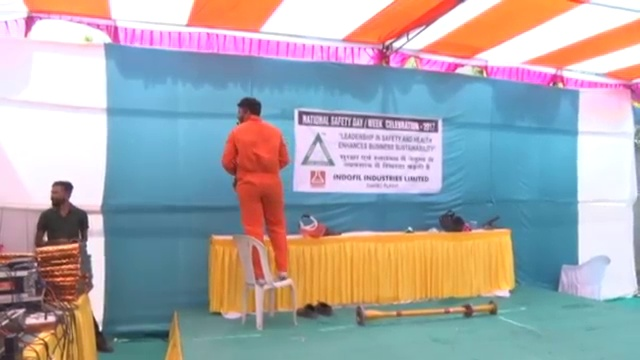helmet_off: (236, 96, 262, 125), (49, 180, 73, 210)
person: (220, 94, 292, 280), (35, 181, 90, 246)
